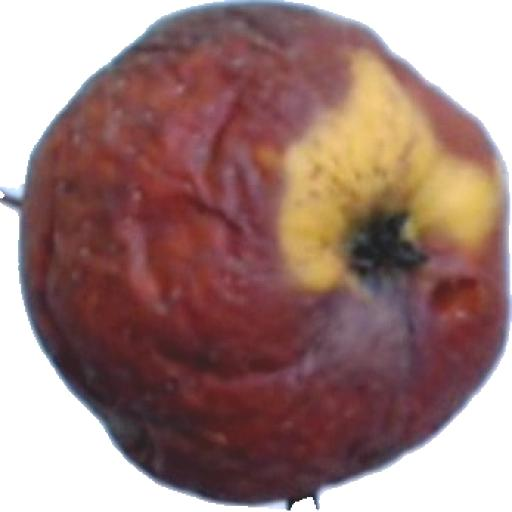apple-overripe: (0, 1, 512, 512)
